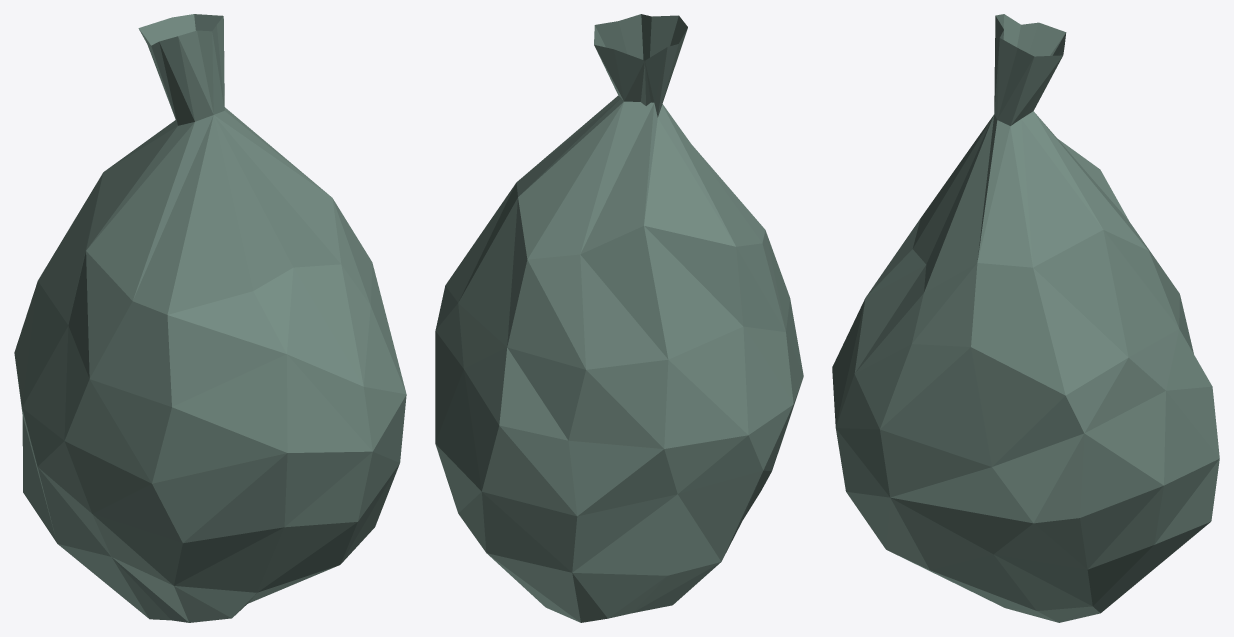
The model's file is trash1.fbx.
3 views of the same model, side by side, from view 1: azimuth 30°, elevation 25°; view 2: azimuth 150°, elevation 25°; view 3: azimuth 270°, elevation 25° (orthographic). The views are drawn at different scales.
Parts seen in each view (by area): view 1: group104413426; view 2: group104413426; view 3: group104413426.
Part boxes in pixels (left/top/right/bottom): group104413426: left=14, top=14, right=406, bottom=622; group104413426: left=435, top=14, right=803, bottom=622; group104413426: left=832, top=14, right=1219, bottom=622.
Size of the model in its own units: 23.65 by 40.66 by 24.64.
